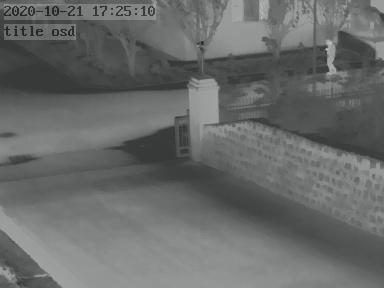person: (323, 33, 338, 76)
